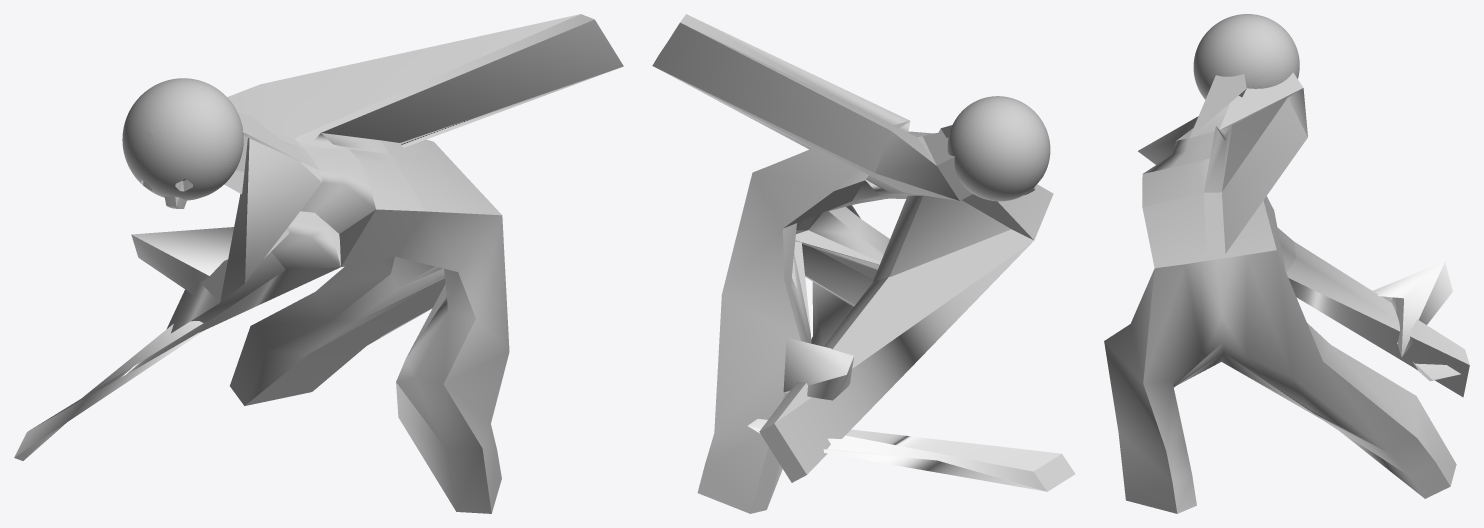
File: attack4.obj
3 renders of one model, left to right at view 1: azimuth 30°, elevation 25°; view 2: azimuth 150°, elevation 25°; view 3: azimuth 270°, elevation 25°, orthographic. The views are drawn at different scales.
Visible parts, largest first — view 1: 球.003_球.003mesh, 立方体.001_立方体.001mesh; view 2: 球.003_球.003mesh, 立方体.001_立方体.001mesh; view 3: 球.003_球.003mesh, 立方体.001_立方体.001mesh.
Part boxes in pixels (x1,y1,x2,y2): 球.003_球.003mesh: [122, 14, 623, 513]; 立方体.001_立方体.001mesh: [14, 227, 233, 460]; 球.003_球.003mesh: [652, 14, 1053, 513]; 立方体.001_立方体.001mesh: [747, 338, 1075, 491]; 球.003_球.003mesh: [1104, 14, 1469, 513]; 立方体.001_立方体.001mesh: [1373, 261, 1460, 381].
Bounding box in the file's own units: 2 × 1.53 × 1.33.
